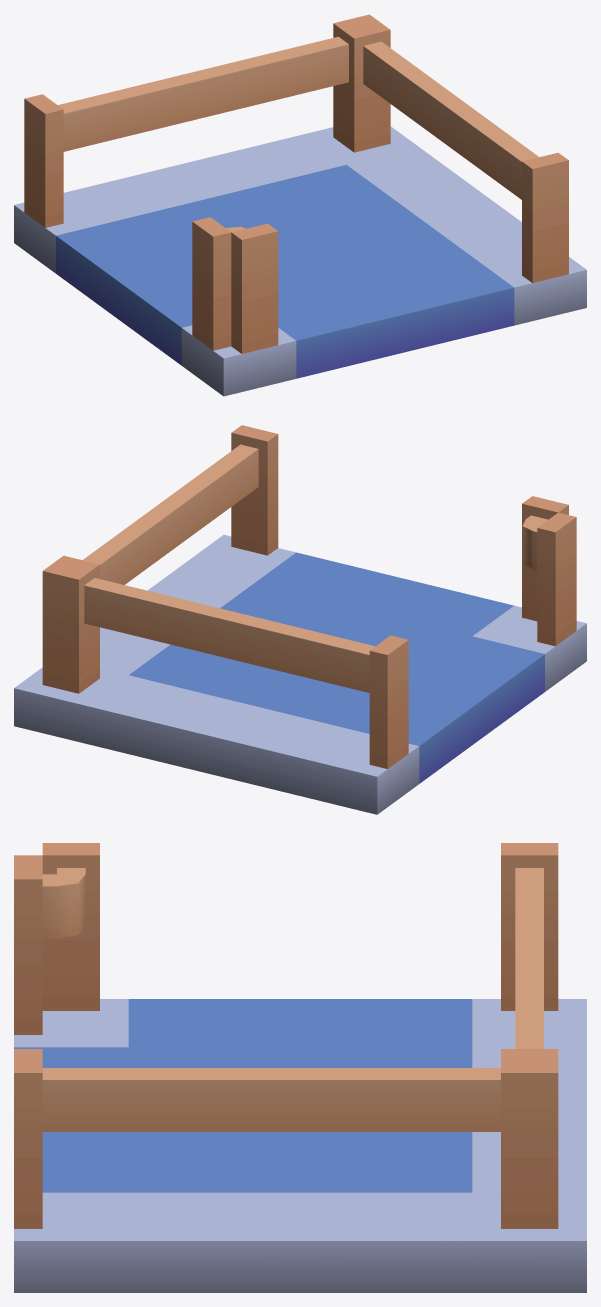
File: queue-corner.glb
The picture shows the model from 3 angles, top to bottom: view 1: azimuth 30°, elevation 25°; view 2: azimuth 150°, elevation 25°; view 3: azimuth 270°, elevation 25°; orthographic projection. The views are drawn at different scales.
Parts seen in each view (by area): view 1: queue-corner; view 2: queue-corner; view 3: queue-corner.
Part boxes in pixels (x1,y1,x2,y2): queue-corner: (14, 14, 586, 396); queue-corner: (14, 425, 586, 814); queue-corner: (14, 843, 586, 1292).
Bounding box in the file's own units: 1 × 0.3999 × 1.
Materials: 1 (1 with a texture image).
